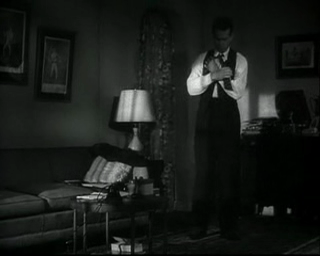face: (212, 27, 232, 52)
ls: (1, 1, 320, 256)
person: (186, 20, 247, 239)
